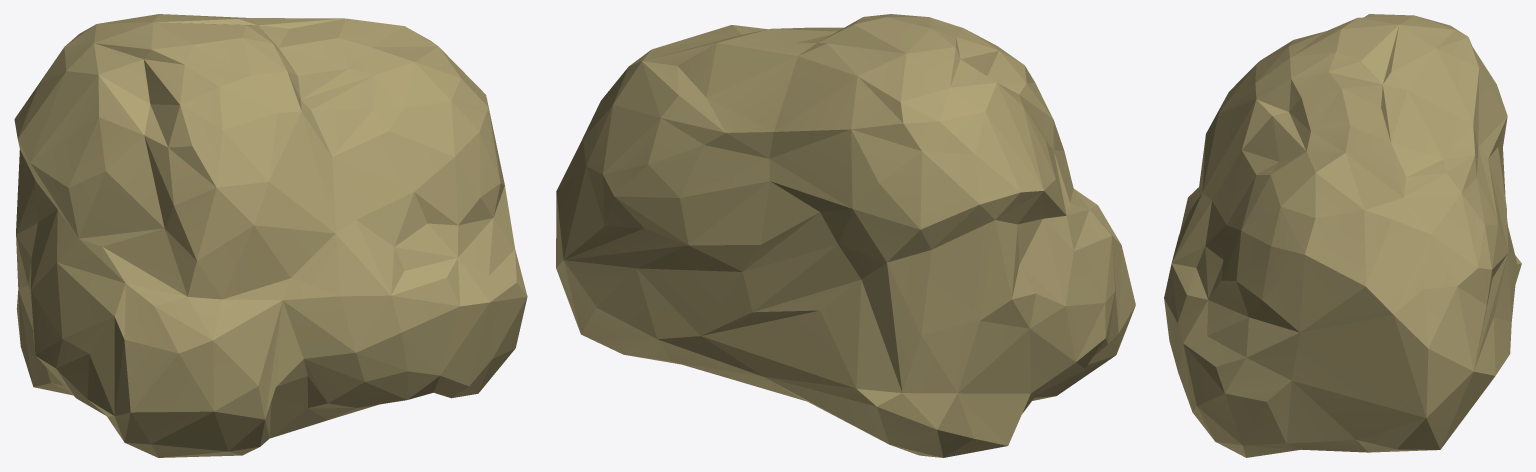
The model's file is SM_rock_68.fbx.
The picture shows the model from 3 angles, left to right: view 1: azimuth 30°, elevation 25°; view 2: azimuth 150°, elevation 25°; view 3: azimuth 270°, elevation 25°; orthographic projection. The views are drawn at different scales.
Parts seen in each view (by area): view 1: rock_68; view 2: rock_68; view 3: rock_68.
Part boxes in pixels (x1=…): rock_68: x1=14, y1=14, x2=527, y2=457; rock_68: x1=556, y1=14, x2=1135, y2=457; rock_68: x1=1164, y1=14, x2=1521, y2=457.
Size of the model in its own units: 218 by 163 by 159.
